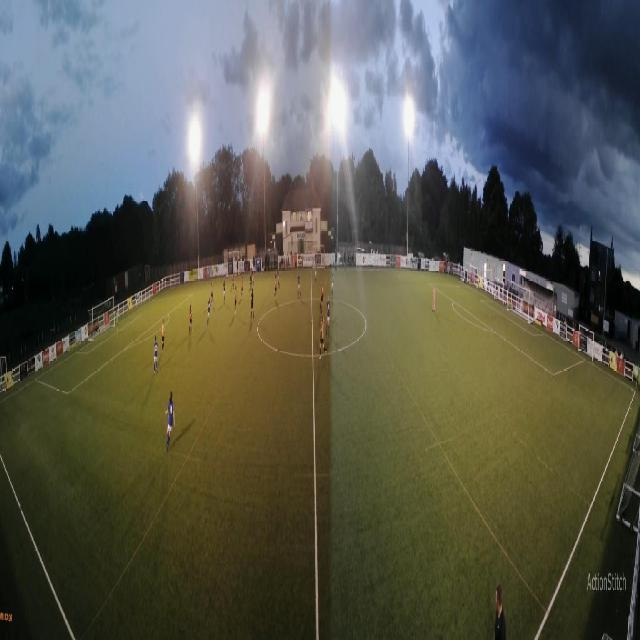ball: (253, 285, 254, 289)
player: (165, 390, 176, 452), (319, 313, 327, 361), (320, 279, 327, 315), (326, 295, 331, 337), (153, 335, 158, 376), (297, 271, 302, 300), (162, 318, 166, 353), (189, 304, 193, 336), (234, 285, 238, 316), (331, 268, 335, 299), (250, 289, 254, 319), (432, 284, 436, 314), (207, 297, 211, 326), (274, 273, 278, 300), (231, 271, 235, 292), (276, 268, 280, 289), (211, 281, 214, 306), (223, 279, 226, 303), (241, 275, 244, 299), (116, 309, 119, 331), (250, 268, 253, 289), (251, 268, 254, 287), (315, 264, 318, 283)
